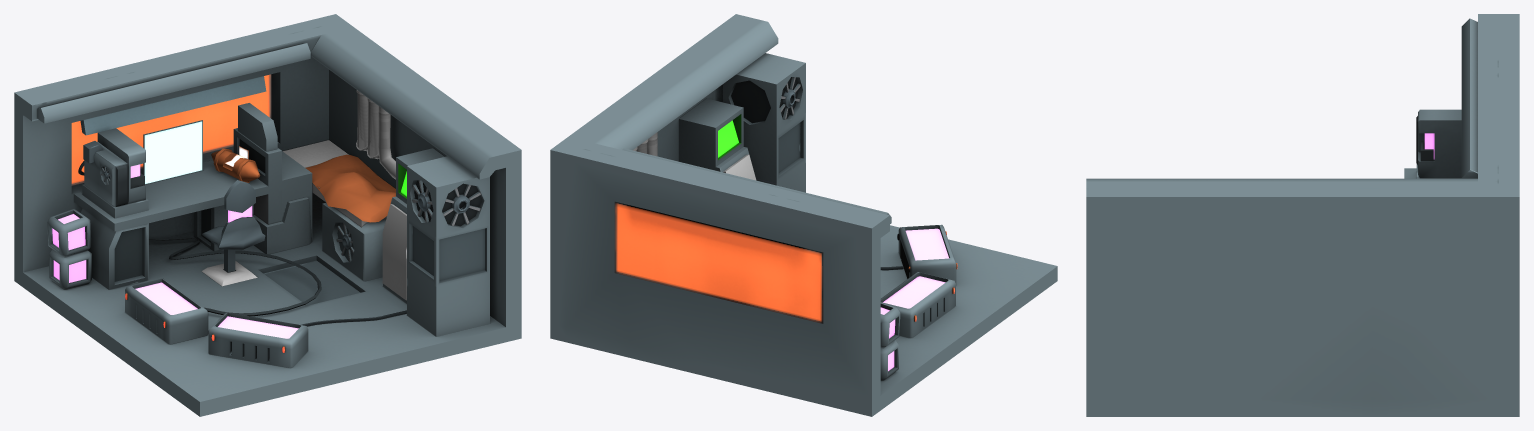
The model's file is cyber-room.glb.
3 views of the same model, side by side, from view 1: azimuth 30°, elevation 25°; view 2: azimuth 150°, elevation 25°; view 3: azimuth 270°, elevation 25° (orthographic). The views are drawn at different scales.
Parts seen in each view (by area): view 1: Cyber Punk Room; view 2: Cyber Punk Room; view 3: Cyber Punk Room.
Part boxes in pixels (bbox=[...]): Cyber Punk Room: bbox=[14, 14, 521, 416]; Cyber Punk Room: bbox=[550, 14, 1057, 416]; Cyber Punk Room: bbox=[1086, 14, 1519, 416].
Bounding box in the file's own units: 3.88 × 2.17 × 3.88.
Materials: 1 (1 with a texture image).
